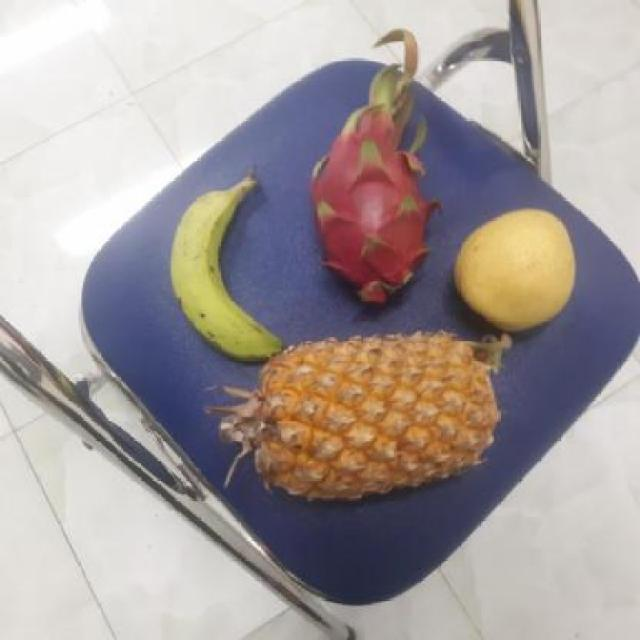banana: (168, 176, 278, 358)
dragon fruit: (305, 96, 437, 299)
pear: (451, 199, 582, 330)
pineapple: (235, 331, 498, 497)
